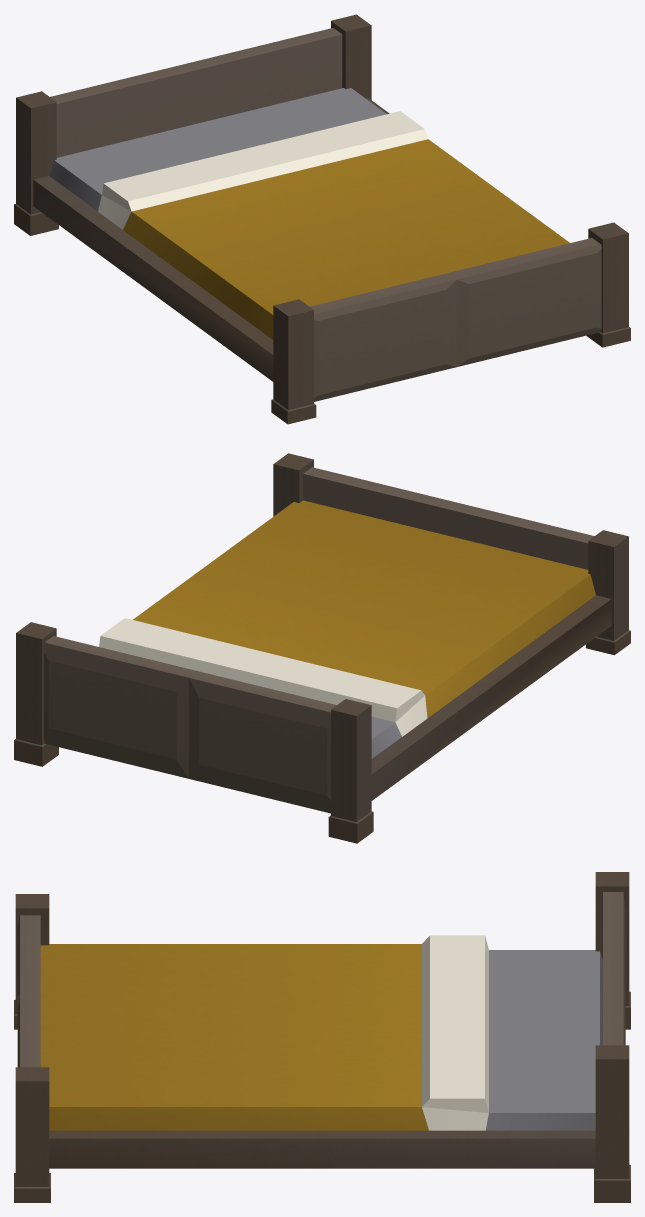
Rendered from Bed_1.fbx.
3 renders of one model, top to bottom at view 1: azimuth 30°, elevation 25°; view 2: azimuth 150°, elevation 25°; view 3: azimuth 270°, elevation 25°, orthographic. The views are drawn at different scales.
Visible parts, largest first — view 1: pCube778; view 2: pCube778; view 3: pCube778.
Boxes of the visible parts, x1,y1,x2,y2 form: pCube778: (14,14,630,424); pCube778: (14,453,630,843); pCube778: (14,872,630,1202).
Bounding box in the file's own units: 202 × 71.27 × 279.
